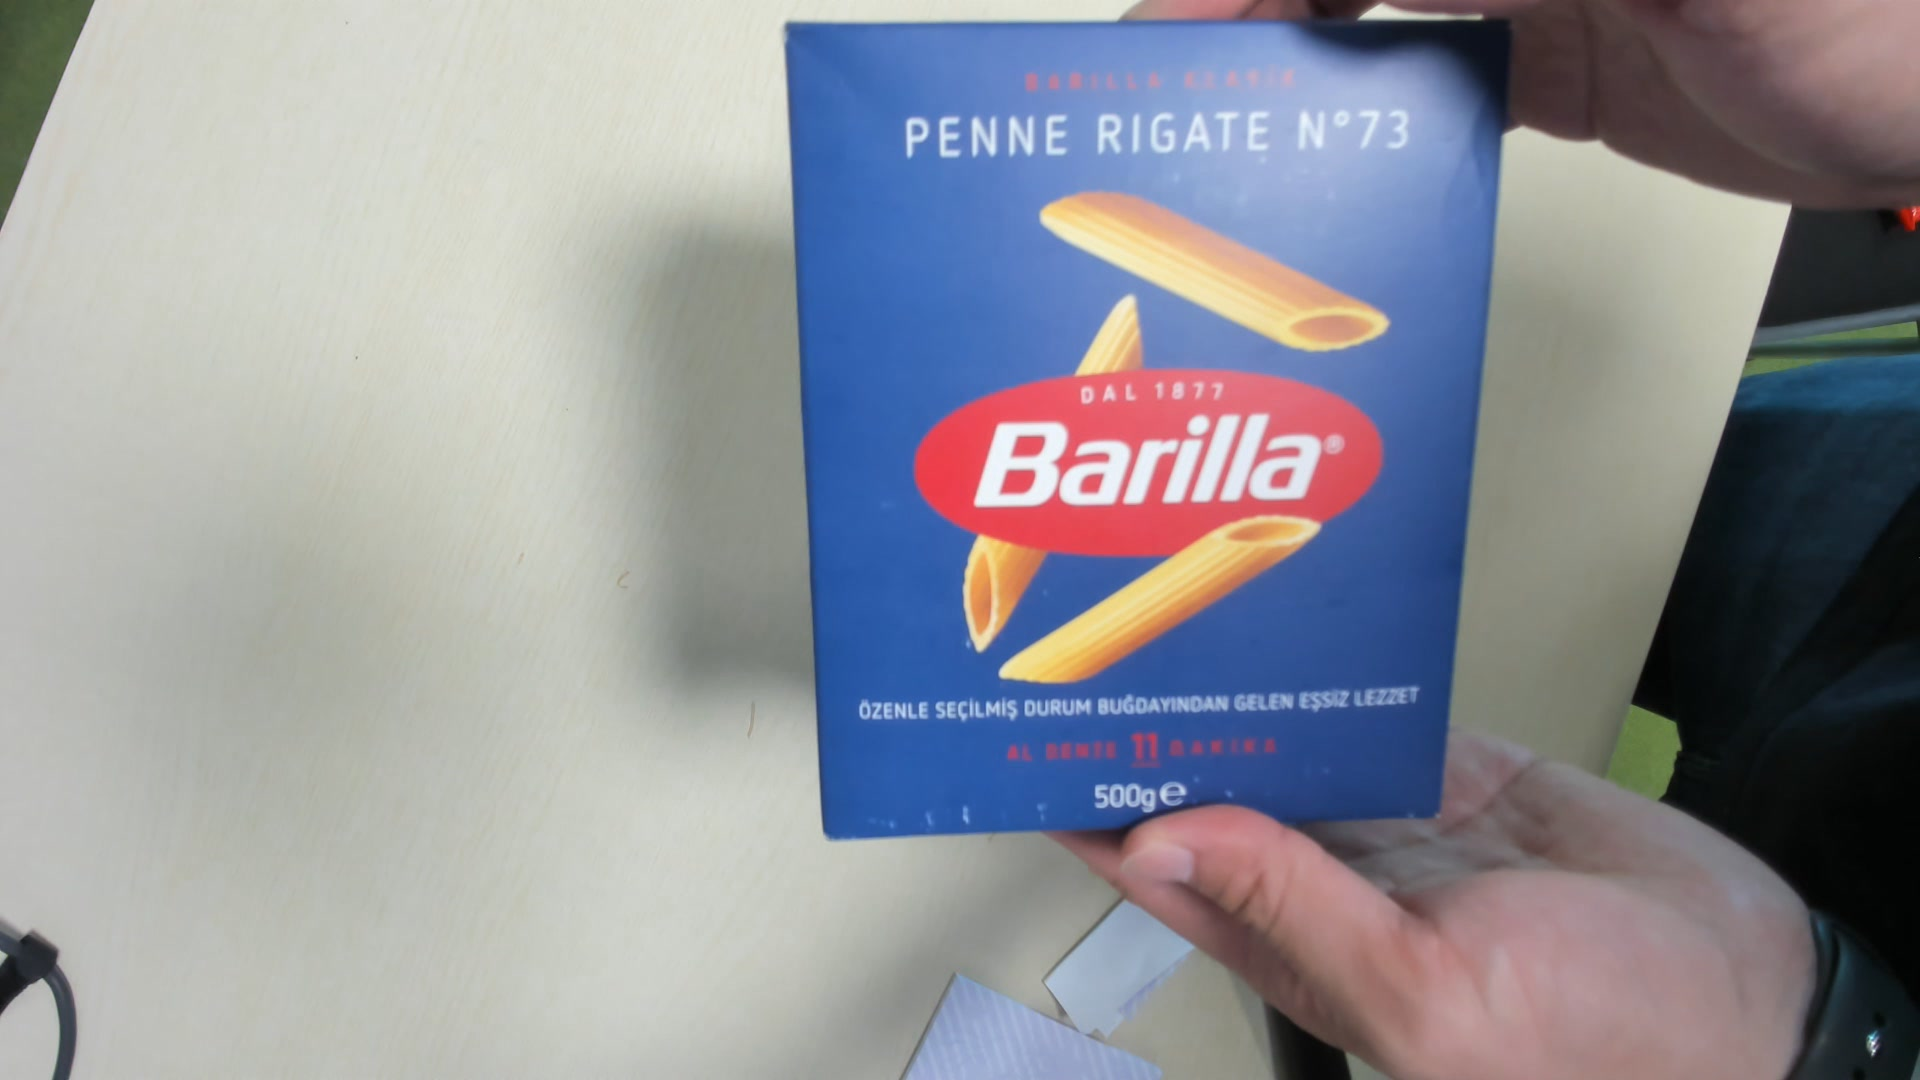Pasta_500-599g_NonHalal_NonHealthy: (781, 12, 1486, 847)
